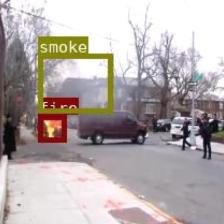fire: (38, 114, 65, 141)
smoke: (37, 53, 112, 112)
